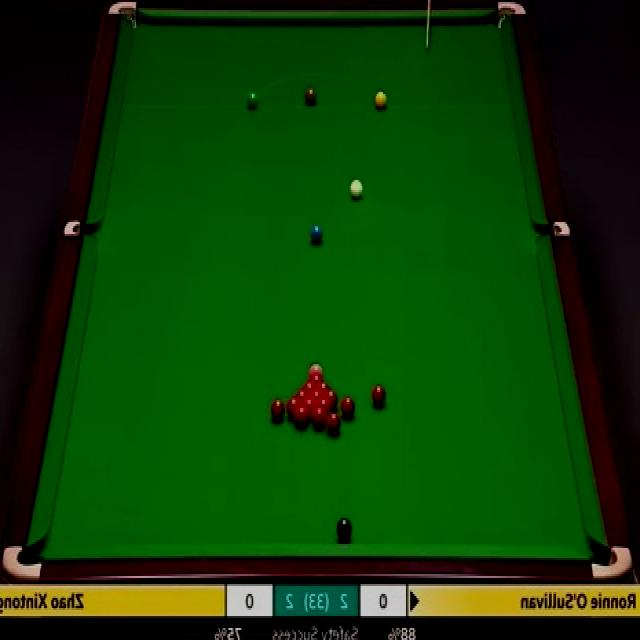black-ball: (337, 514, 352, 542)
blue-ball: (310, 222, 324, 246)
brown-ball: (306, 88, 318, 106)
green-ball: (247, 90, 258, 110)
pink-ball: (308, 361, 323, 373)
red-ball: (370, 385, 388, 410), (340, 395, 357, 421), (326, 412, 342, 437), (285, 397, 301, 419), (316, 396, 332, 417), (270, 396, 284, 420), (293, 406, 309, 427), (313, 406, 326, 431), (301, 397, 316, 417), (300, 382, 318, 394), (324, 389, 338, 401), (308, 372, 324, 382), (310, 389, 325, 399), (316, 382, 331, 391), (295, 390, 309, 399)
white-ball: (348, 177, 366, 200)
yellow-ball: (373, 89, 388, 110)
